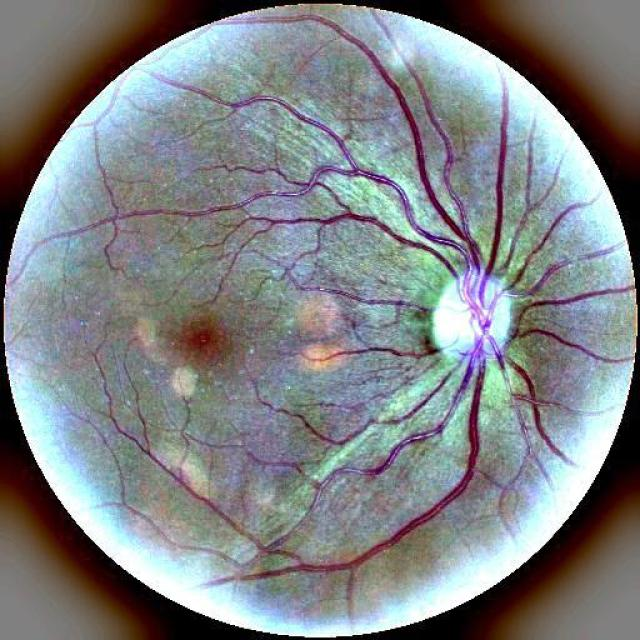Macula: (171, 316, 229, 366)
Nerves: (95, 3, 627, 585)
Optic Disk: (431, 266, 514, 359)
